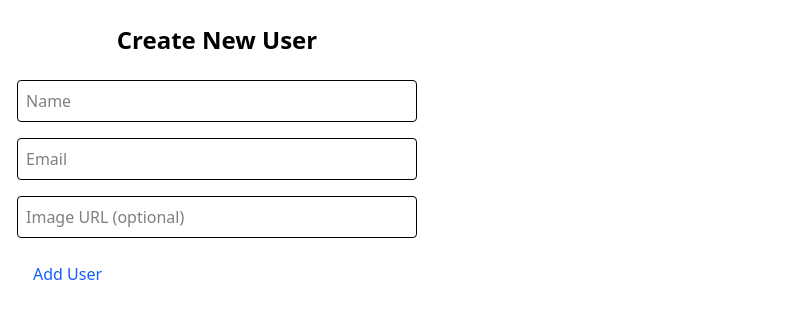
Scenario: AddUser › submits with image field filled
Type "Jane" into the field with placeholder "Name" at (217, 101), box [17,80,417,122]
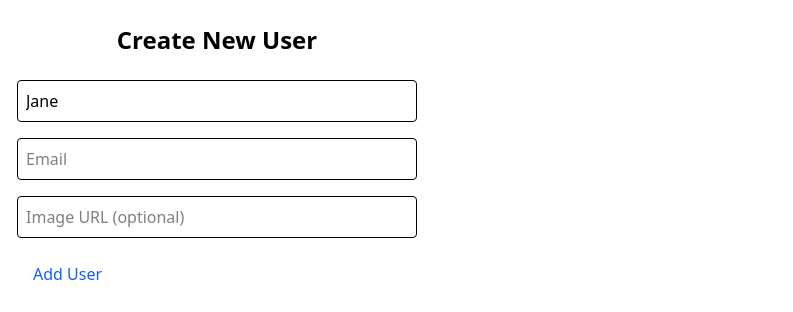
Type "jane@example.com" into the field with placeholder "Email" at (217, 159), box [17,138,417,180]
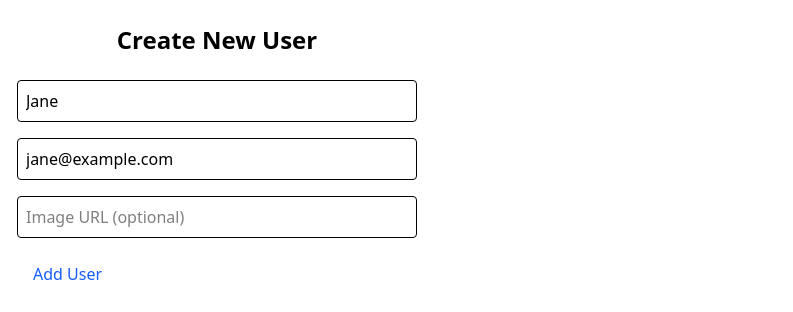
Type "https://example.com/avatar.jpg" into the field with placeholder "Image URL (optional)" at (217, 217), box [17,196,417,238]
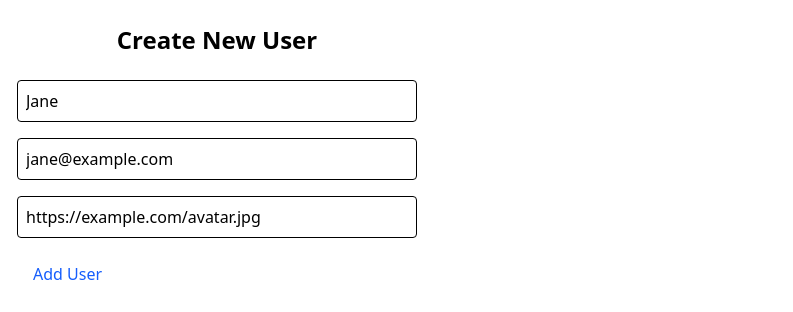
Click the button "Add User" at (68, 274), box [17,254,118,294]
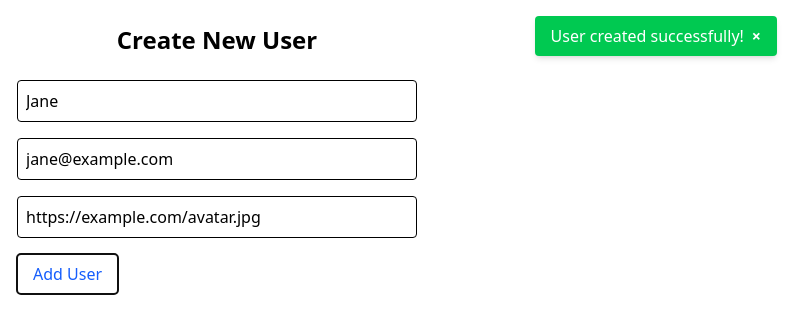
Expected: the text "User created successfully!" is shown, [550,25,744,47]
